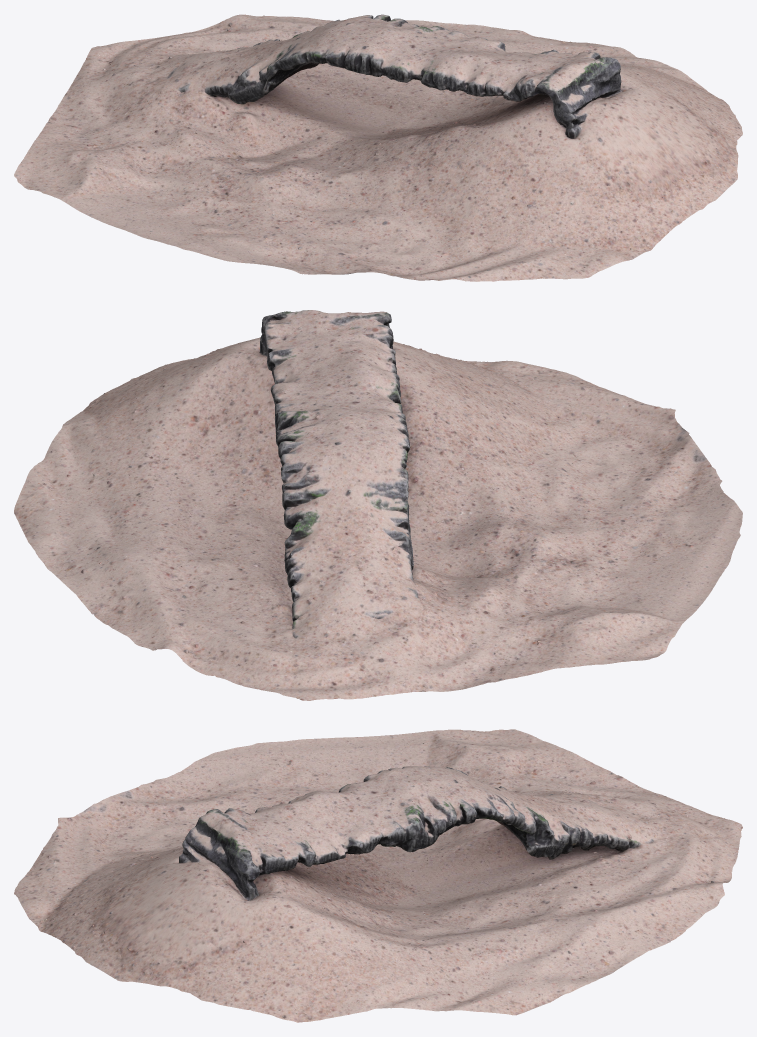
Rendered from bridge.gltf.
3 views of the same model, one above another, from view 1: azimuth 30°, elevation 25°; view 2: azimuth 150°, elevation 25°; view 3: azimuth 270°, elevation 25° (orthographic). The views are drawn at different scales.
Parts seen in each view (by area): view 1: bridge; view 2: bridge; view 3: bridge.
Boxes of the visible parts, x1,y1,x2,y2 form: bridge: (14, 14, 742, 281); bridge: (14, 310, 742, 700); bridge: (14, 729, 742, 1022).
Bounding box in the file's own units: 18.17 × 3.28 × 18.67.
1 material, 1 textured.
